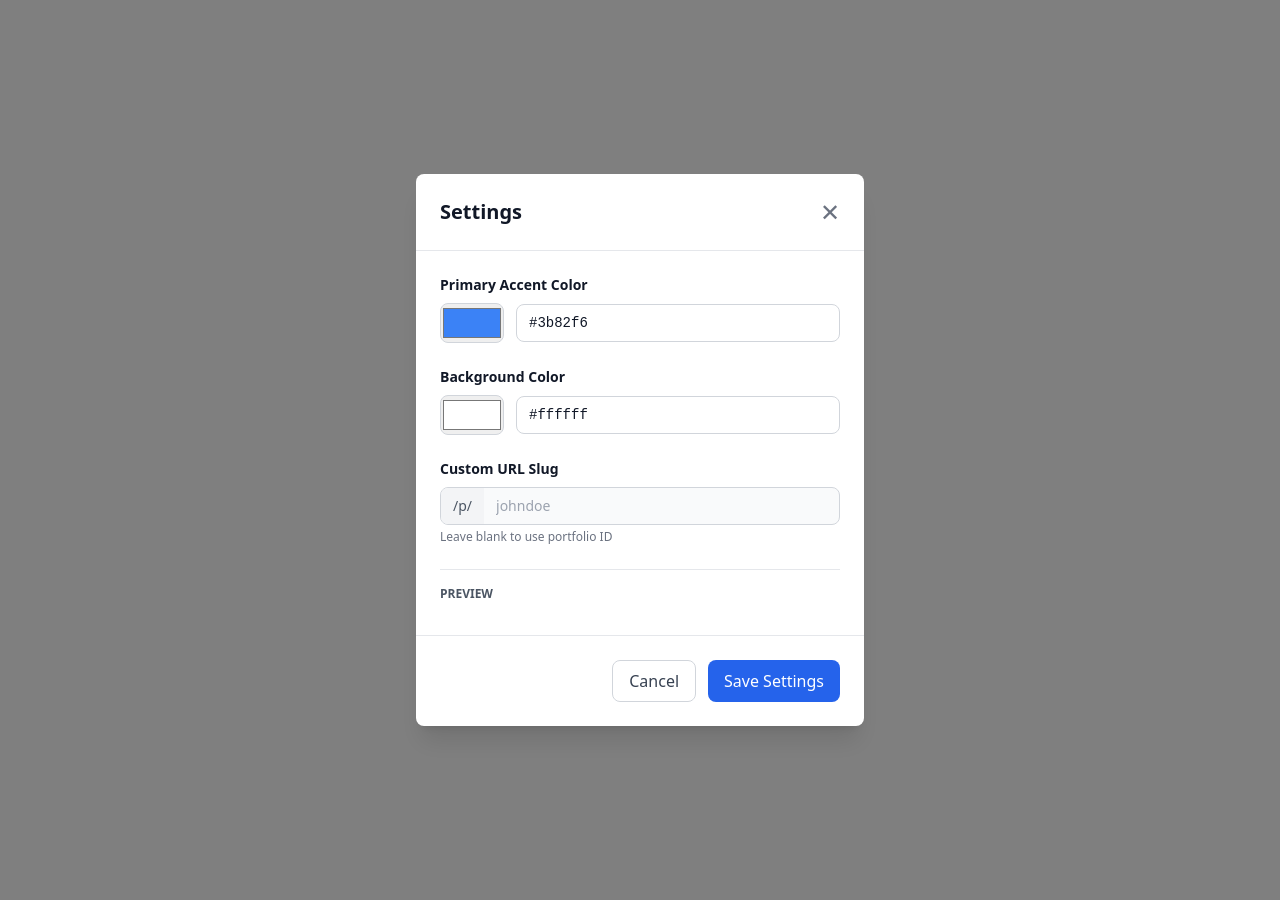
Test: SettingsPanel - Slug Validation › shows format error for invalid slug (too short)
This screenshot has width=1280, height=900.
Type "ab" into the field with placeholder "johndoe" at (662, 506), box [484,488,839,524]
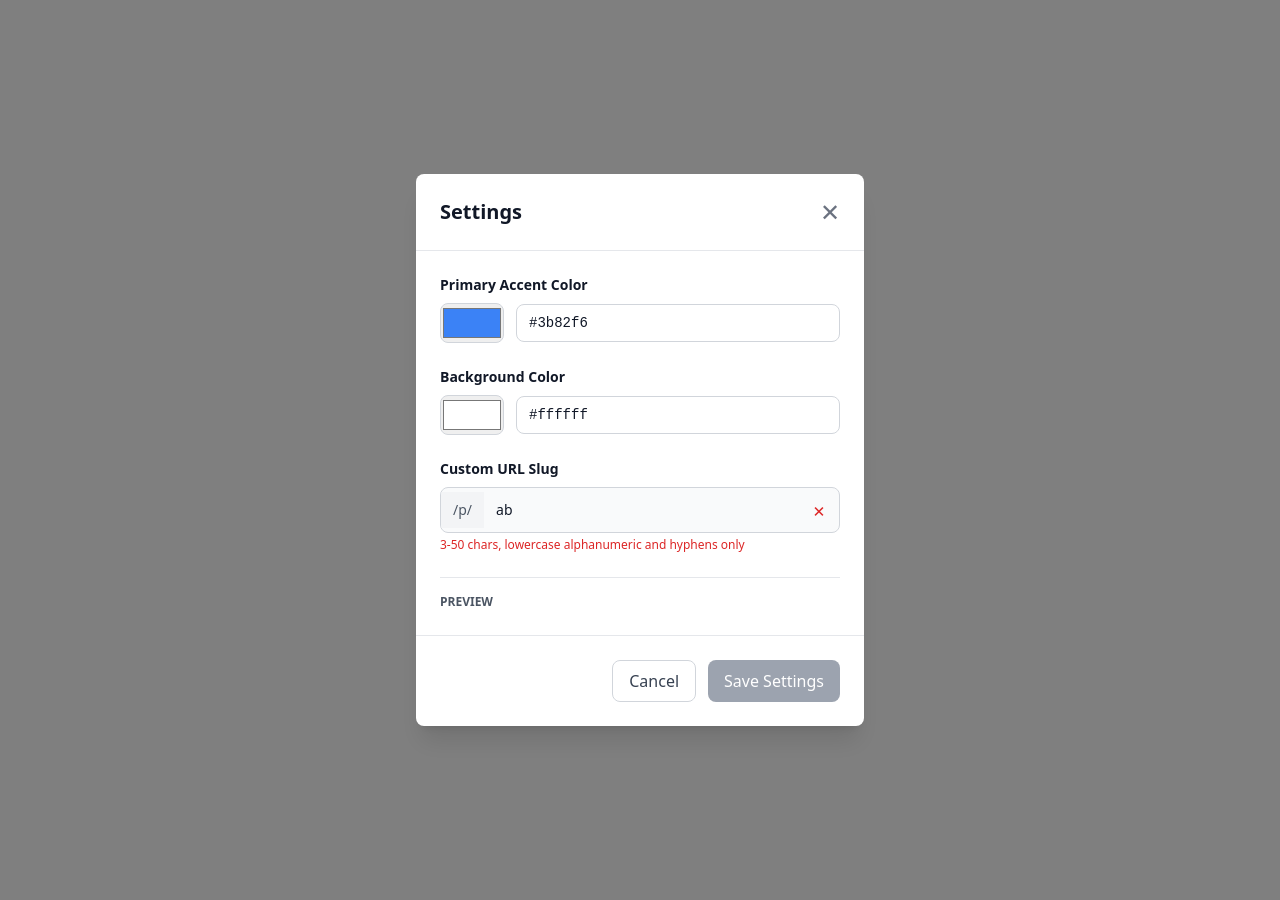
Expected: the text "3-50 chars, lowercase alphanumeric and hyphens only" is shown, [440,536,745,553]
Expected: the text "✗" is shown, [811,498,827,522]
